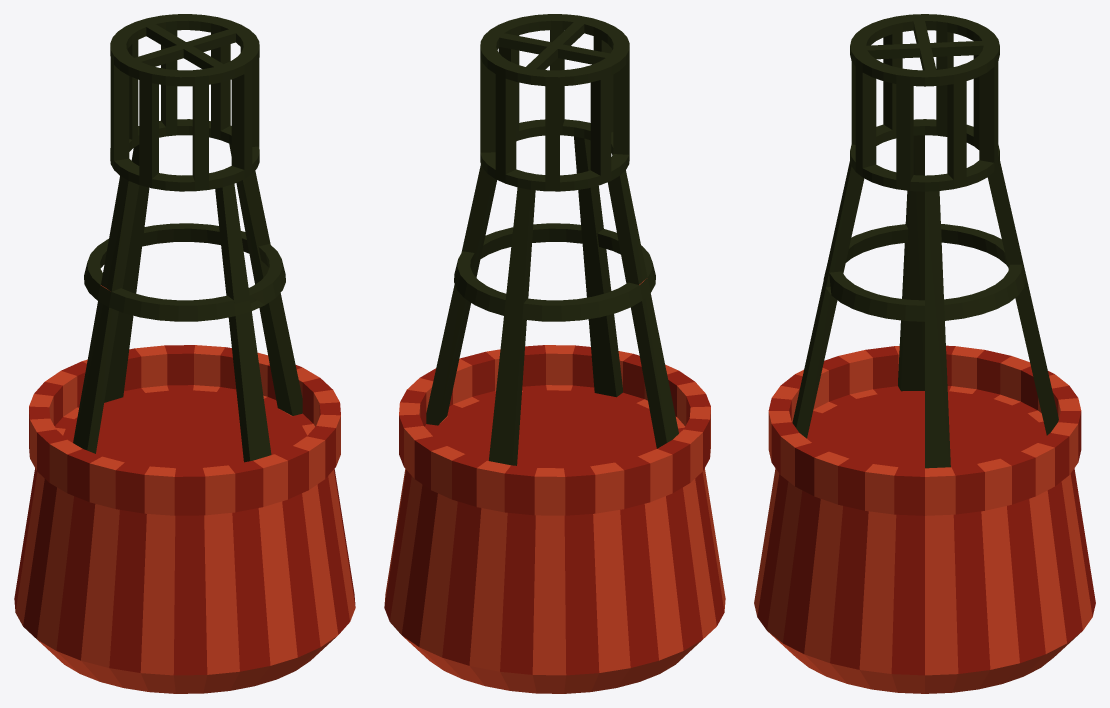
The model's file is BuoyValid.obj.
3 views of the same model, side by side, from view 1: azimuth 30°, elevation 25°; view 2: azimuth 150°, elevation 25°; view 3: azimuth 270°, elevation 25° (orthographic).
Visible parts, largest first — view 1: Cylinder; view 2: Cylinder; view 3: Cylinder.
Boxes of the visible parts, x1,y1,x2,y2 form: Cylinder: (14, 14, 355, 693); Cylinder: (384, 14, 725, 693); Cylinder: (754, 14, 1095, 693).
Bounding box in the file's own units: 2.35 × 4.65 × 2.35.
